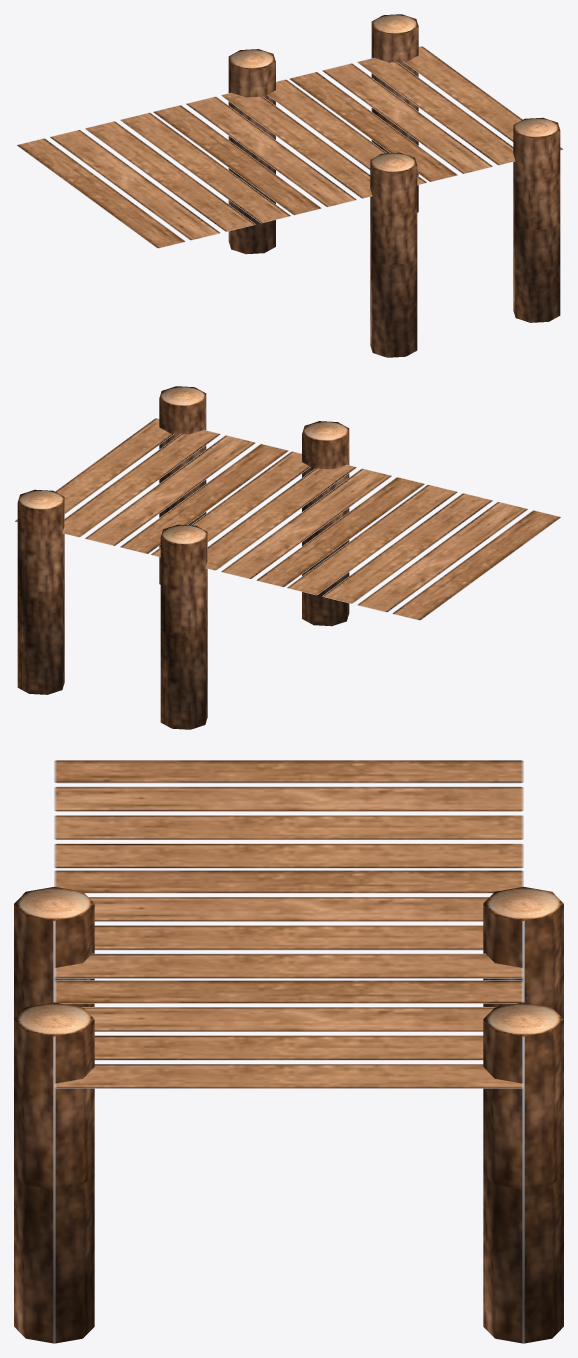
File: Brygga.fbx
3 views of the same model, one above another, from view 1: azimuth 30°, elevation 25°; view 2: azimuth 150°, elevation 25°; view 3: azimuth 270°, elevation 25° (orthographic). The views are drawn at different scales.
Parts seen in each view (by area): view 1: Brygga; view 2: Brygga; view 3: Brygga.
Part boxes in pixels (x1,y1,x2,y2): Brygga: [17, 14, 563, 357]; Brygga: [14, 386, 560, 729]; Brygga: [14, 760, 563, 1343].
Bounding box in the file's own units: 600 × 260 × 422.
